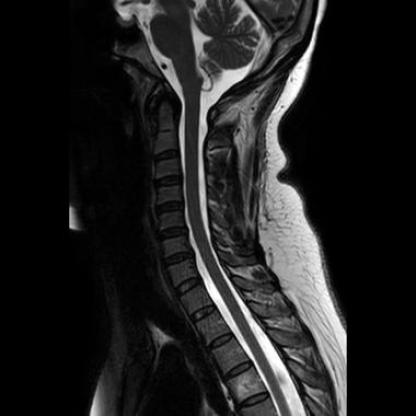Disc Bulgerotation: (156, 226, 191, 242), (162, 251, 194, 266), (155, 201, 184, 215), (155, 175, 182, 190)
